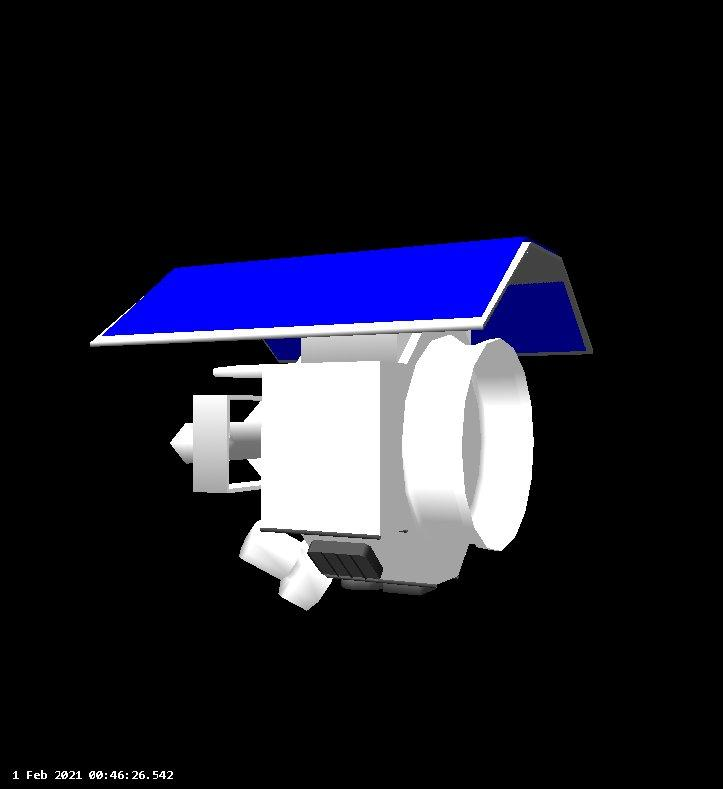antenna: (170, 389, 267, 497), (242, 518, 335, 615), (209, 361, 263, 383)
body: (296, 316, 476, 587)
solar: (93, 234, 526, 338), (471, 279, 592, 356), (264, 331, 302, 361)
thruster: (404, 340, 537, 553)
